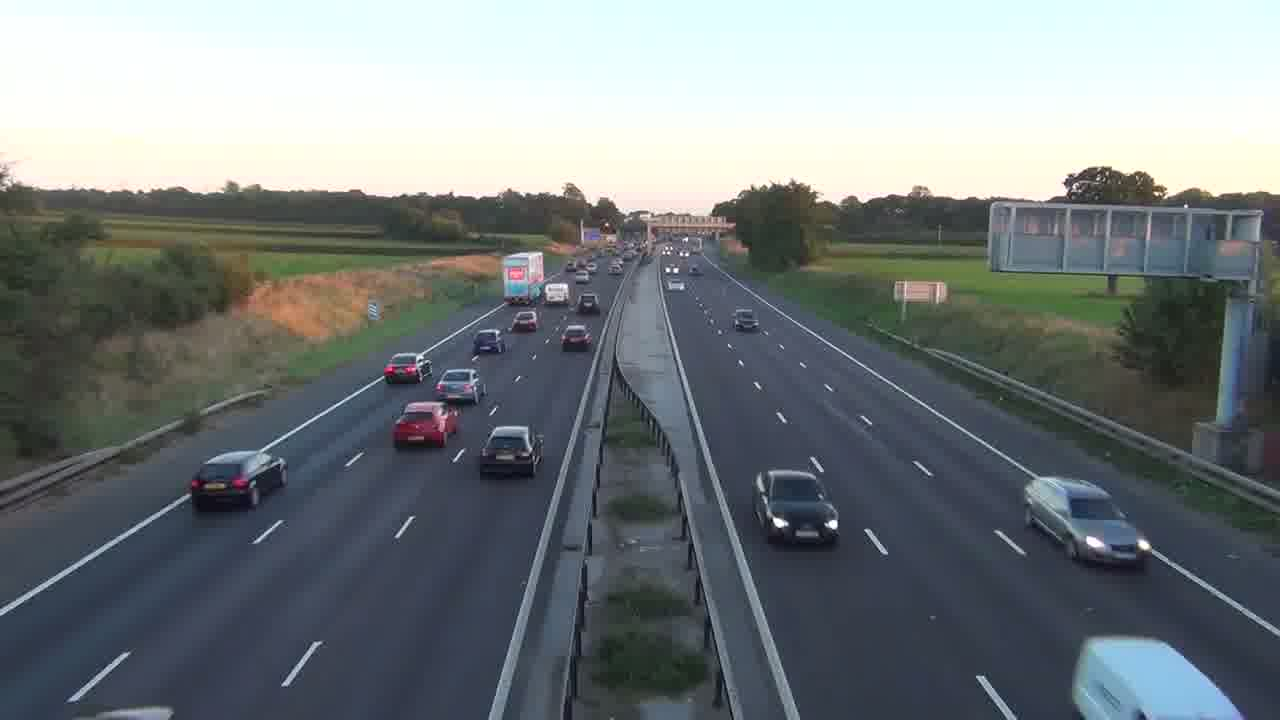car: (1071, 634, 1246, 719), (1023, 475, 1150, 568), (752, 467, 840, 547), (189, 449, 288, 511), (478, 424, 545, 478), (479, 424, 545, 478), (391, 400, 455, 449), (434, 368, 483, 407), (383, 351, 426, 384), (560, 324, 593, 352), (473, 329, 505, 354), (512, 309, 539, 333)
